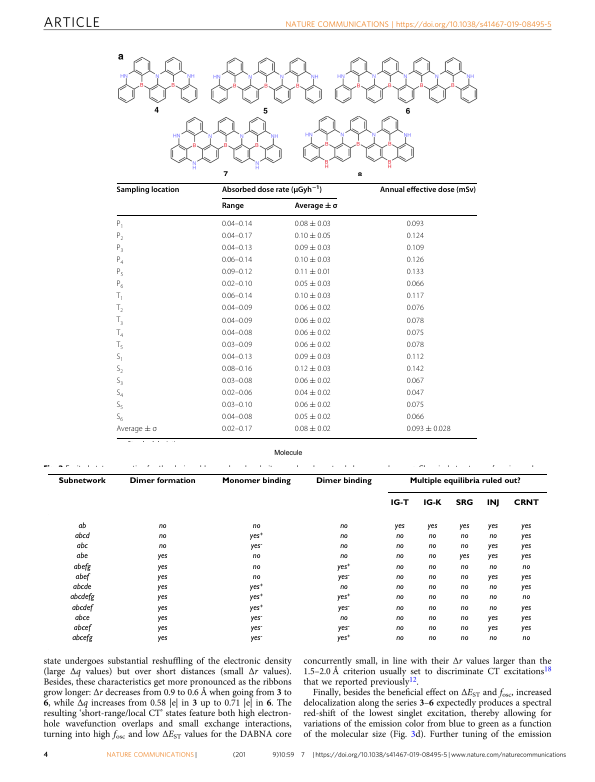borderless: (115, 181, 477, 438), (46, 472, 548, 651)
cell: (221, 184, 323, 195), (408, 477, 521, 486), (379, 185, 477, 195), (116, 185, 180, 195), (221, 477, 291, 486), (128, 477, 196, 486), (315, 477, 372, 486), (57, 477, 106, 486), (294, 201, 338, 211), (406, 425, 452, 434), (115, 425, 158, 434), (294, 219, 332, 229), (294, 231, 332, 241), (294, 340, 332, 350), (294, 352, 332, 362), (294, 244, 332, 253), (294, 256, 332, 265), (294, 268, 332, 277), (294, 280, 332, 289), (294, 292, 332, 301), (294, 304, 332, 313), (294, 316, 332, 325), (294, 328, 332, 337), (294, 365, 332, 374), (294, 377, 332, 386), (294, 389, 332, 398), (294, 401, 332, 410), (294, 413, 332, 422), (294, 425, 332, 434), (221, 219, 253, 229), (221, 231, 253, 241), (221, 340, 253, 350), (221, 352, 253, 362), (221, 244, 253, 253), (221, 256, 253, 265), (221, 268, 253, 277), (221, 280, 253, 289), (221, 292, 253, 301), (221, 304, 253, 313), (221, 316, 253, 325), (221, 328, 253, 337), (221, 365, 253, 374), (221, 377, 253, 386), (221, 389, 253, 398), (221, 401, 253, 410), (221, 413, 253, 422), (221, 425, 253, 434), (221, 201, 245, 211), (513, 499, 539, 508), (69, 593, 95, 602), (70, 603, 93, 613), (71, 634, 93, 643), (72, 562, 91, 572), (406, 219, 425, 229), (406, 231, 425, 241), (406, 340, 425, 350), (406, 352, 425, 362), (389, 499, 409, 508), (422, 499, 442, 508), (454, 499, 474, 508), (72, 583, 92, 592), (72, 624, 91, 633), (406, 244, 425, 253), (406, 256, 425, 265), (406, 268, 425, 277), (406, 280, 425, 289), (406, 292, 425, 301), (406, 304, 425, 313), (406, 316, 425, 325), (406, 328, 425, 337), (406, 365, 425, 374), (406, 377, 425, 386), (406, 389, 425, 398), (406, 401, 425, 410), (406, 413, 425, 422), (73, 531, 90, 541), (73, 613, 90, 623), (74, 572, 90, 582), (249, 531, 264, 541), (336, 562, 351, 572), (249, 603, 264, 613), (249, 613, 263, 623), (485, 499, 500, 508), (249, 583, 264, 592), (249, 593, 264, 602), (336, 593, 351, 602), (336, 634, 351, 643), (337, 572, 350, 582), (337, 603, 350, 613), (249, 542, 263, 551), (249, 624, 263, 633), (249, 634, 263, 643), (426, 521, 438, 531), (458, 521, 470, 531), (520, 521, 532, 531), (520, 531, 532, 541), (156, 562, 168, 572), (156, 572, 168, 582), (520, 572, 532, 582), (156, 603, 168, 613), (520, 603, 532, 613), (156, 613, 168, 623), (520, 613, 532, 623), (75, 542, 88, 551), (75, 552, 88, 561), (337, 624, 350, 633), (394, 521, 405, 531), (487, 521, 498, 531), (487, 572, 498, 582), (487, 613, 498, 623), (520, 542, 532, 551), (156, 552, 168, 561), (458, 552, 470, 561), (520, 552, 532, 561), (156, 583, 168, 592), (520, 583, 532, 592), (156, 593, 168, 602), (156, 624, 168, 633), (520, 624, 532, 633), (156, 634, 168, 643), (77, 521, 87, 531), (157, 521, 167, 531), (251, 521, 261, 531), (157, 531, 167, 541), (427, 531, 437, 541), (459, 531, 469, 541), (251, 562, 261, 572), (427, 562, 437, 572), (459, 562, 469, 572), (521, 562, 531, 572), (251, 572, 261, 582), (427, 572, 437, 582), (459, 572, 469, 582), (427, 603, 437, 613), (459, 603, 469, 613), (427, 613, 437, 623), (459, 613, 469, 623), (487, 542, 498, 551), (487, 552, 498, 561), (487, 624, 498, 633), (115, 292, 124, 303), (115, 304, 124, 315), (115, 316, 124, 327), (115, 328, 124, 339), (115, 340, 124, 351), (115, 352, 124, 363), (115, 401, 124, 412), (115, 413, 124, 424), (339, 521, 348, 531), (339, 531, 348, 541), (395, 531, 404, 541), (488, 531, 497, 541), (157, 542, 167, 551), (427, 542, 437, 551), (459, 542, 469, 551), (251, 552, 261, 561), (427, 552, 437, 561), (395, 562, 404, 572), (488, 562, 497, 572), (395, 572, 404, 582), (427, 583, 437, 592), (459, 583, 469, 592), (427, 593, 437, 602), (459, 593, 469, 602), (521, 593, 531, 602), (395, 603, 404, 613), (488, 603, 497, 613), (339, 613, 348, 623), (395, 613, 404, 623), (427, 624, 437, 633), (459, 624, 469, 633), (427, 634, 437, 643), (459, 634, 469, 643), (521, 634, 531, 643), (115, 365, 124, 375), (115, 377, 124, 387), (115, 389, 124, 399), (116, 219, 124, 230), (116, 231, 124, 242), (116, 280, 124, 291), (339, 542, 348, 551), (395, 542, 404, 551), (339, 552, 348, 561), (395, 552, 404, 561), (339, 583, 348, 592), (395, 583, 404, 592), (488, 583, 497, 592), (395, 593, 404, 602), (488, 593, 497, 602), (395, 624, 404, 633), (395, 634, 404, 643), (488, 634, 497, 643), (116, 244, 124, 254), (116, 256, 124, 266), (116, 268, 124, 278)
